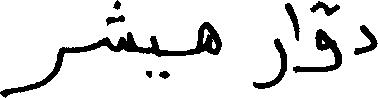X: (0, 43, 61, 97), (300, 0, 339, 76), (256, 0, 285, 93), (106, 0, 133, 56), (287, 0, 298, 77), (198, 17, 218, 59), (358, 20, 377, 59), (152, 31, 156, 60)
